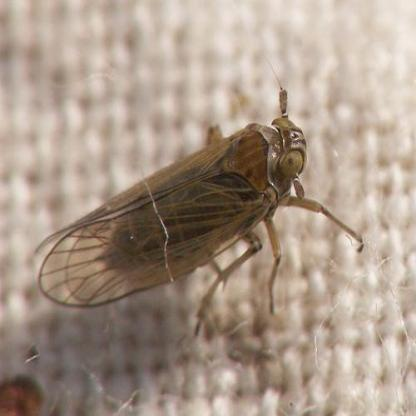brown-planthopper: (34, 101, 315, 310)
